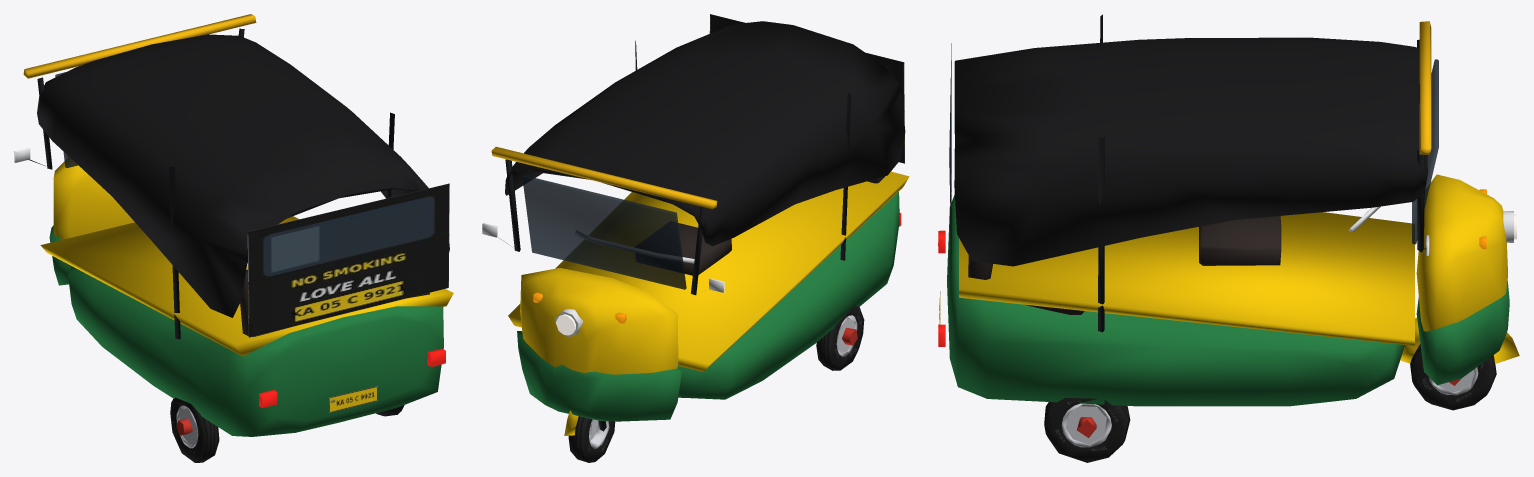
Rendered from auto_far.glb.
3 renders of one model, left to right at view 1: azimuth 30°, elevation 25°; view 2: azimuth 150°, elevation 25°; view 3: azimuth 270°, elevation 25°, orthographic. The views are drawn at different scales.
Visible parts, largest first — view 1: auto_Canvas, auto_AutoGreen, auto_Parts, auto_AutoYellow, auto_Tyre, auto_Lamps; view 2: auto_Canvas, auto_AutoYellow, auto_AutoGreen, auto_Glass, auto_Parts, auto_Tyre, auto_Lamps; view 3: auto_Canvas, auto_AutoYellow, auto_AutoGreen, auto_Parts, auto_Tyre, auto_Glass.
Boxes of the visible parts, bbox=[...] form: auto_Canvas: bbox=[37, 34, 449, 317]; auto_AutoGreen: bbox=[49, 225, 443, 436]; auto_Parts: bbox=[14, 14, 449, 448]; auto_AutoYellow: bbox=[40, 158, 453, 356]; auto_Tyre: bbox=[170, 397, 404, 462]; auto_Lamps: bbox=[67, 156, 445, 407]; auto_Canvas: bbox=[505, 21, 905, 246]; auto_AutoYellow: bbox=[508, 171, 909, 435]; auto_AutoGreen: bbox=[517, 192, 899, 421]; auto_Glass: bbox=[522, 175, 686, 289]; auto_Parts: bbox=[482, 14, 904, 448]; auto_Tyre: bbox=[568, 306, 864, 462]; auto_Lamps: bbox=[533, 213, 901, 335]; auto_Canvas: bbox=[954, 37, 1427, 266]; auto_AutoYellow: bbox=[959, 174, 1519, 363]; auto_AutoGreen: bbox=[947, 194, 1509, 406]; auto_Parts: bbox=[939, 14, 1513, 447]; auto_Tyre: bbox=[1044, 344, 1496, 462]; auto_Glass: bbox=[1412, 59, 1438, 244].
Bounding box in the file's own units: 1.54 × 1.75 × 2.73.
7 materials, 3 textured.
